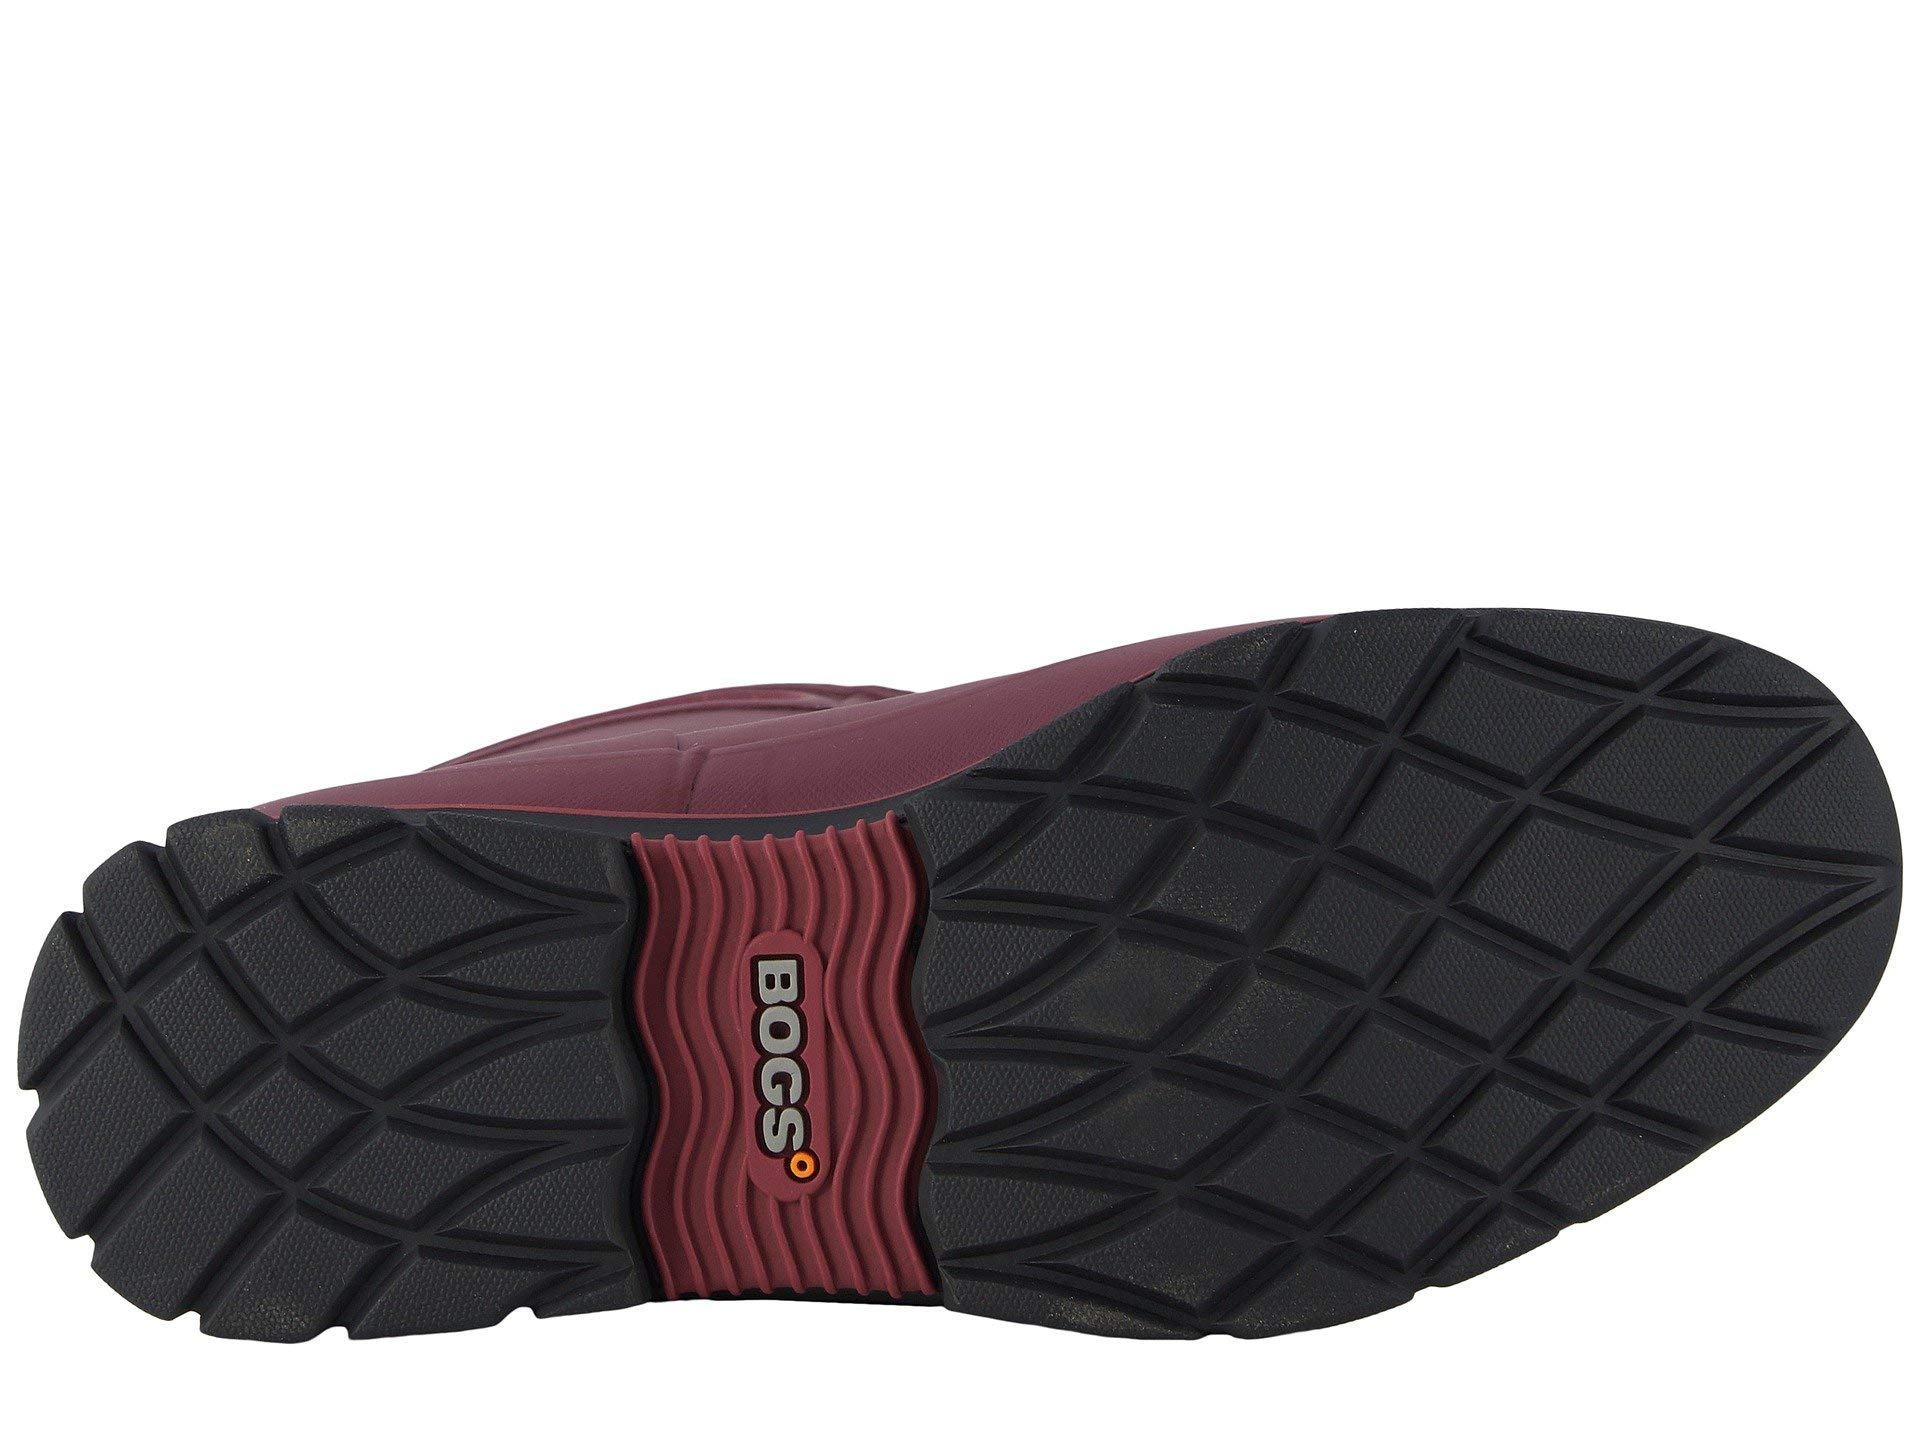circle: (686, 867, 871, 1254)
line: (1066, 691, 1755, 1145), (166, 793, 627, 1311), (686, 867, 871, 1254)
quad: (1066, 691, 1755, 1145), (166, 793, 627, 1311)
text: (686, 867, 871, 1254)
triangle: (166, 793, 627, 1311)
